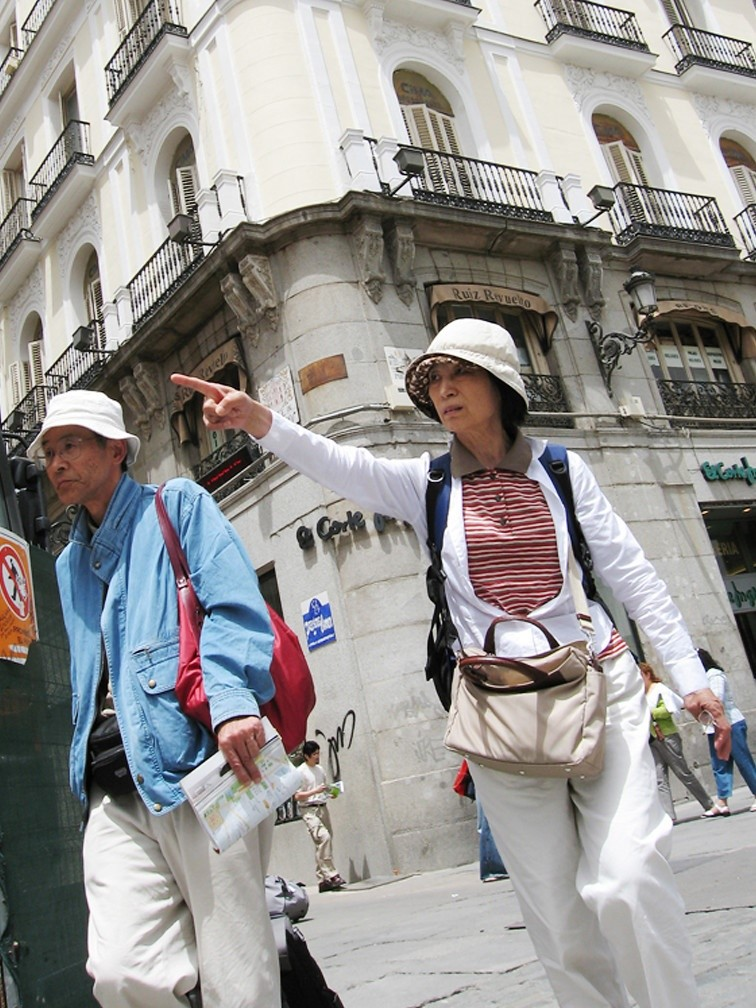face_no_mask: (34, 404, 130, 517), (420, 329, 497, 447)
